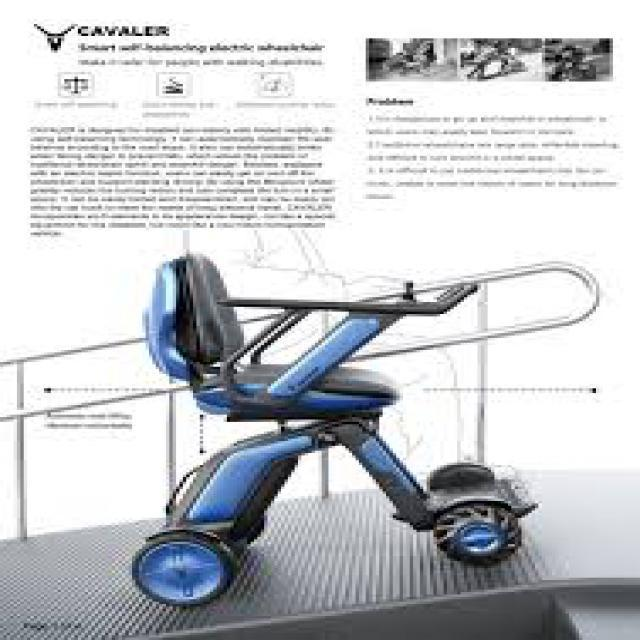wheelchairs: (131, 256, 527, 604)
